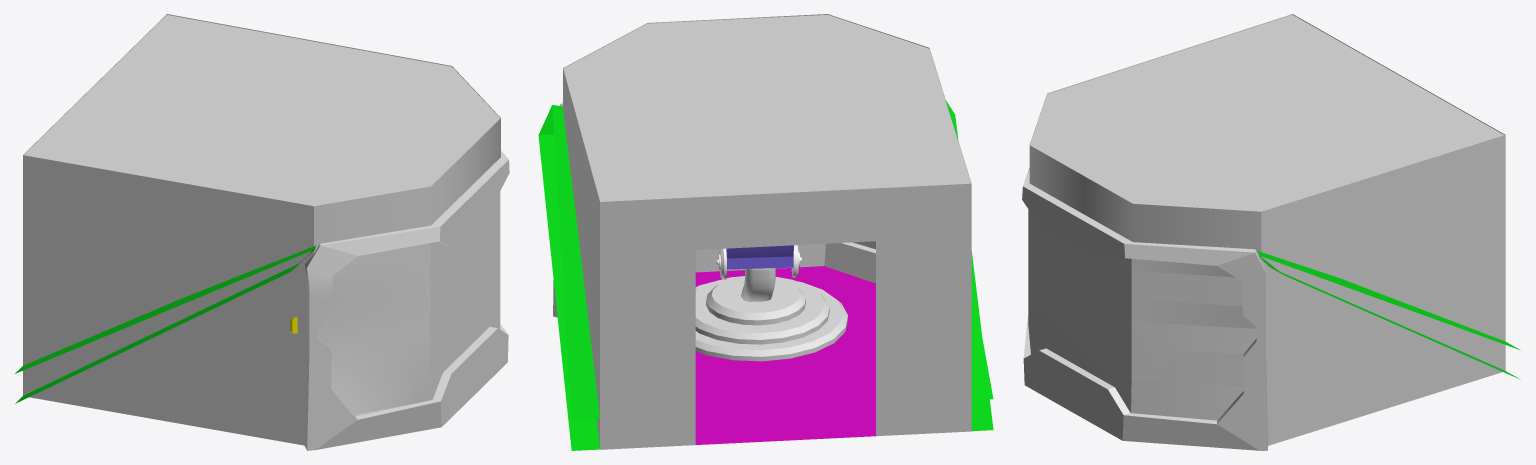
File: cockpitNewUVs.fbx
3 renders of one model, left to right at view 1: azimuth 30°, elevation 25°; view 2: azimuth 150°, elevation 25°; view 3: azimuth 270°, elevation 25°, orthographic. The views are drawn at different scales.
Parts seen in each view (by area): view 1: Sala_Mandos_Mesh1.002, Sala_Mandos_Mesh1.001, Cristal_Mandos, Marco_Ventana, Sala_Mandos_Mesh1; view 2: Sala_Mandos_Mesh1.002, Sala_Mandos_Mesh1.001, Sala_Mandos_Mesh1, Base_Silla, Marco_Ventana, Silla.001, Pie_Silla, Circulicos; view 3: Sala_Mandos_Mesh1.002, Sala_Mandos_Mesh1.001, Cristal_Mandos, Marco_Ventana, Sala_Mandos_Mesh1.
Part boxes in pixels (left/top/right/bottom): Sala_Mandos_Mesh1.002: left=23, top=14, right=500, bottom=445; Sala_Mandos_Mesh1.001: left=24, top=15, right=500, bottom=206; Cristal_Mandos: left=318, top=191, right=500, bottom=414; Marco_Ventana: left=304, top=151, right=509, bottom=450; Sala_Mandos_Mesh1: left=15, top=245, right=315, bottom=403; Sala_Mandos_Mesh1.002: left=563, top=14, right=971, bottom=449; Sala_Mandos_Mesh1.001: left=563, top=14, right=971, bottom=201; Sala_Mandos_Mesh1: left=538, top=101, right=993, bottom=450; Base_Silla: left=695, top=276, right=847, bottom=361; Marco_Ventana: left=553, top=102, right=875, bottom=317; Silla.001: left=726, top=245, right=793, bottom=269; Pie_Silla: left=741, top=268, right=775, bottom=301; Circulicos: left=716, top=245, right=801, bottom=279; Sala_Mandos_Mesh1.002: left=1029, top=14, right=1505, bottom=445; Sala_Mandos_Mesh1.001: left=1030, top=15, right=1504, bottom=211; Cristal_Mandos: left=1028, top=209, right=1256, bottom=420; Marco_Ventana: left=1022, top=168, right=1268, bottom=450; Sala_Mandos_Mesh1: left=1258, top=250, right=1520, bottom=379.
Size of the model in its own units: 629 by 329 by 631.
